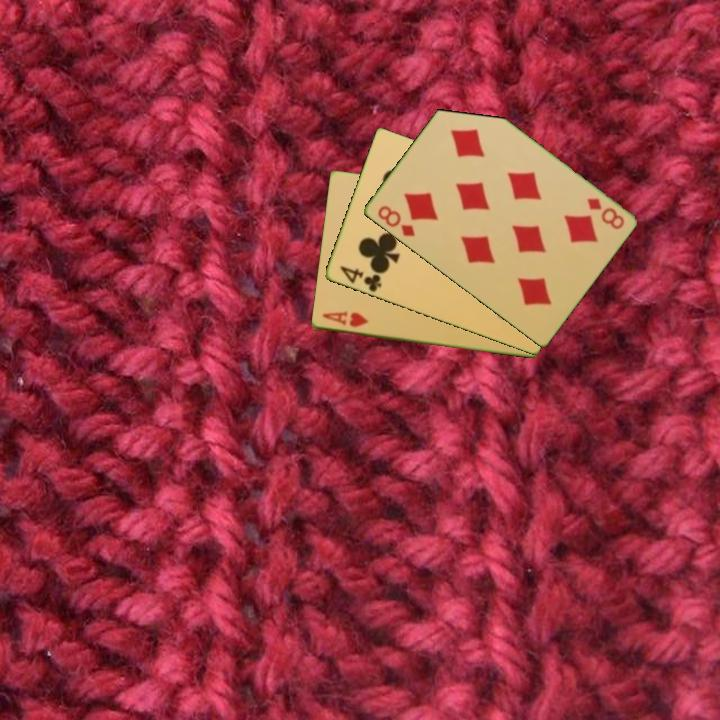4c: (336, 262, 384, 295)
8d: (374, 202, 418, 240), (583, 194, 627, 232)
Ah: (318, 308, 372, 330)
